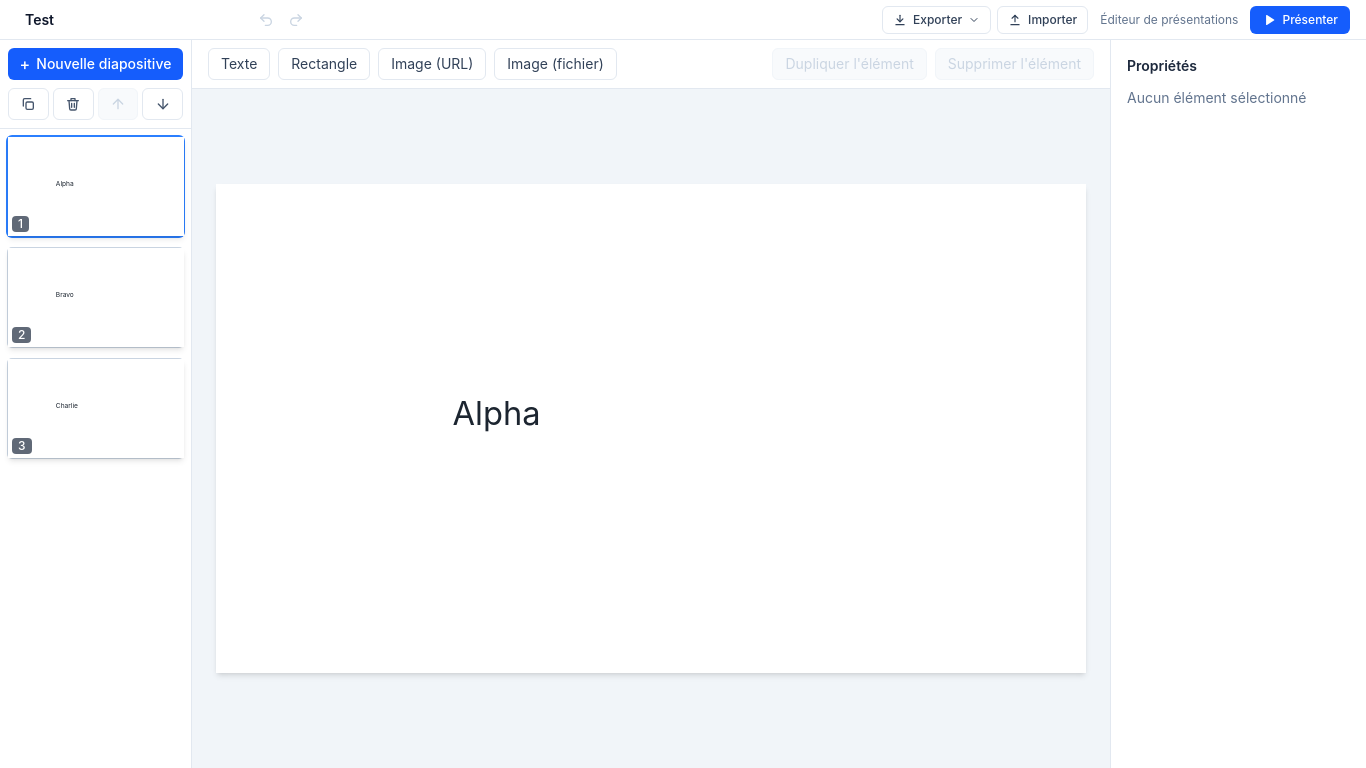
Test: EditorLayout : gestion des diapositives › supprime la diapositive sélectionnée et sélectionne sa voisine
What coordinates should you click on to do the following:
click the button named "Diapositive 2"
I would click on:
 (96, 298)
Its box is [8,248,183,347].
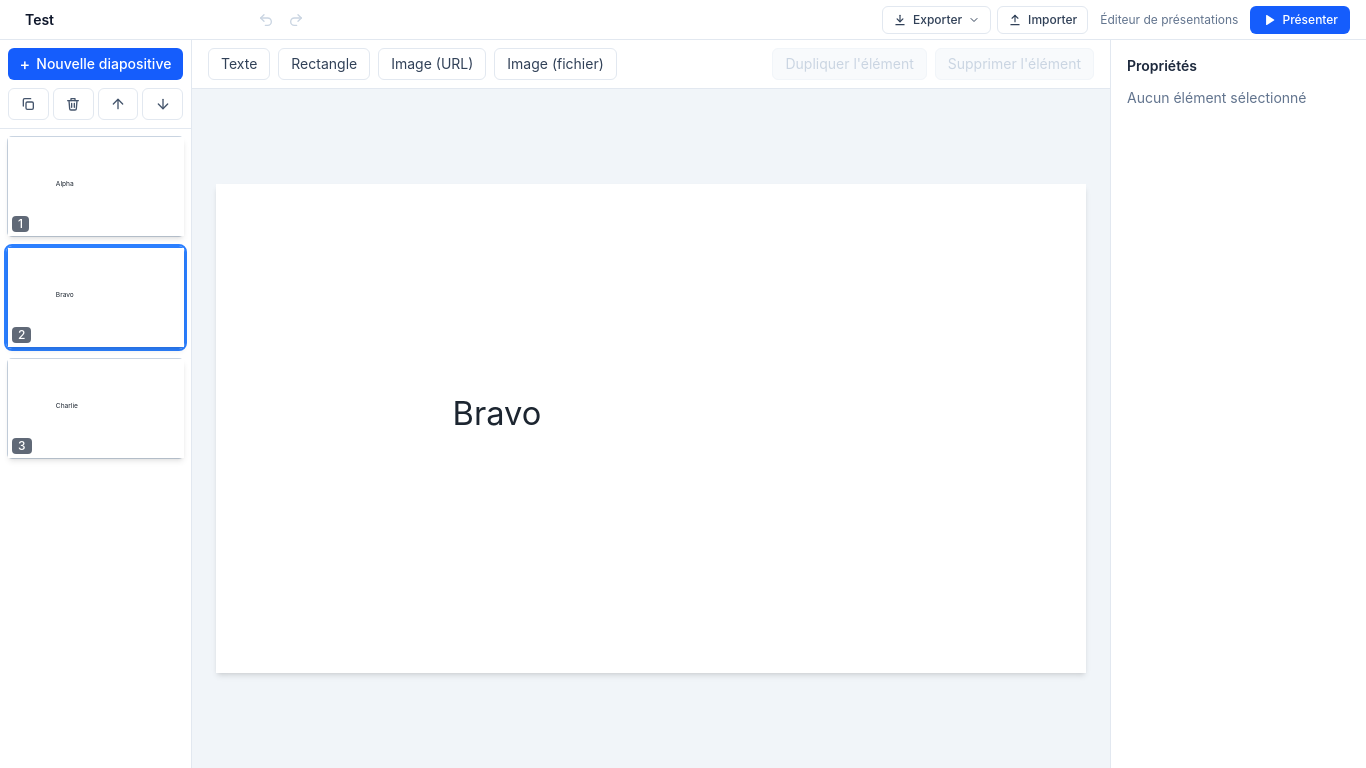
What coordinates should you click on to do the following:
click the button named "Supprimer la diapositive"
I would click on:
 (73, 104)
Its box is [53,88,94,120].
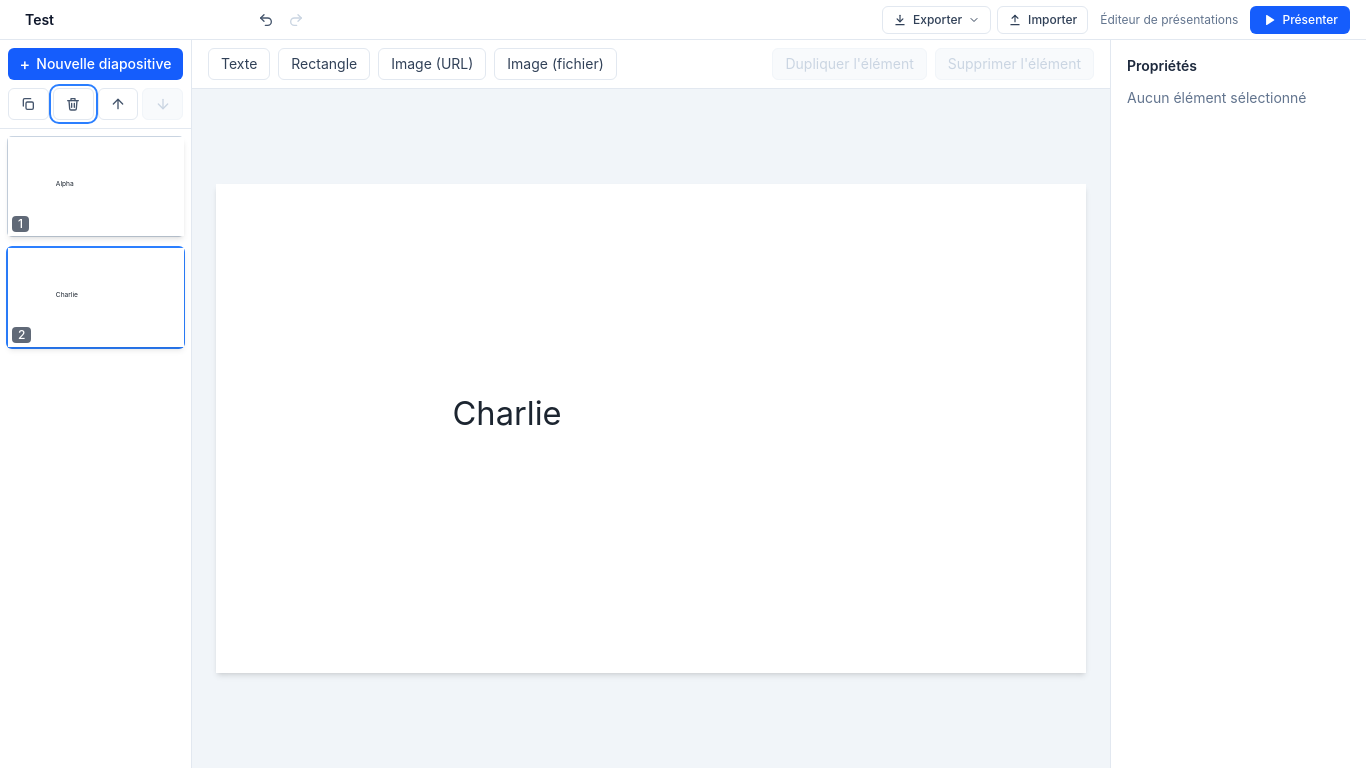
Result: the 2nd text "Charlie" is shown at [452,393,562,433]
